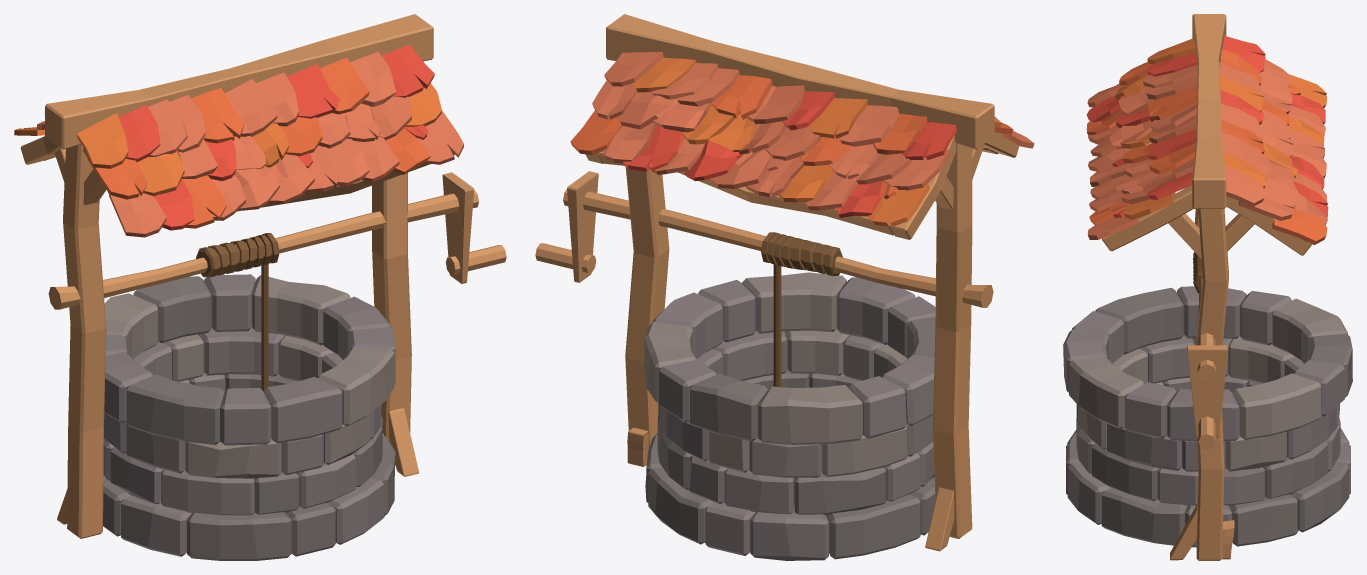
Rendered from well.fbx.
3 views of the same model, side by side, from view 1: azimuth 30°, elevation 25°; view 2: azimuth 150°, elevation 25°; view 3: azimuth 270°, elevation 25° (orthographic). The views are drawn at different scales.
Parts seen in each view (by area): view 1: Cube.001; view 2: Cube.001; view 3: Cube.001.
Part boxes in pixels (x1,y1,x2,y2): Cube.001: (14,14,506,560); Cube.001: (535,14,1034,560); Cube.001: (1063,14,1352,560).
Size of the model in its own units: 2286 by 2108 by 1405.
